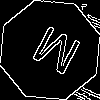M: (25, 25, 84, 85)
